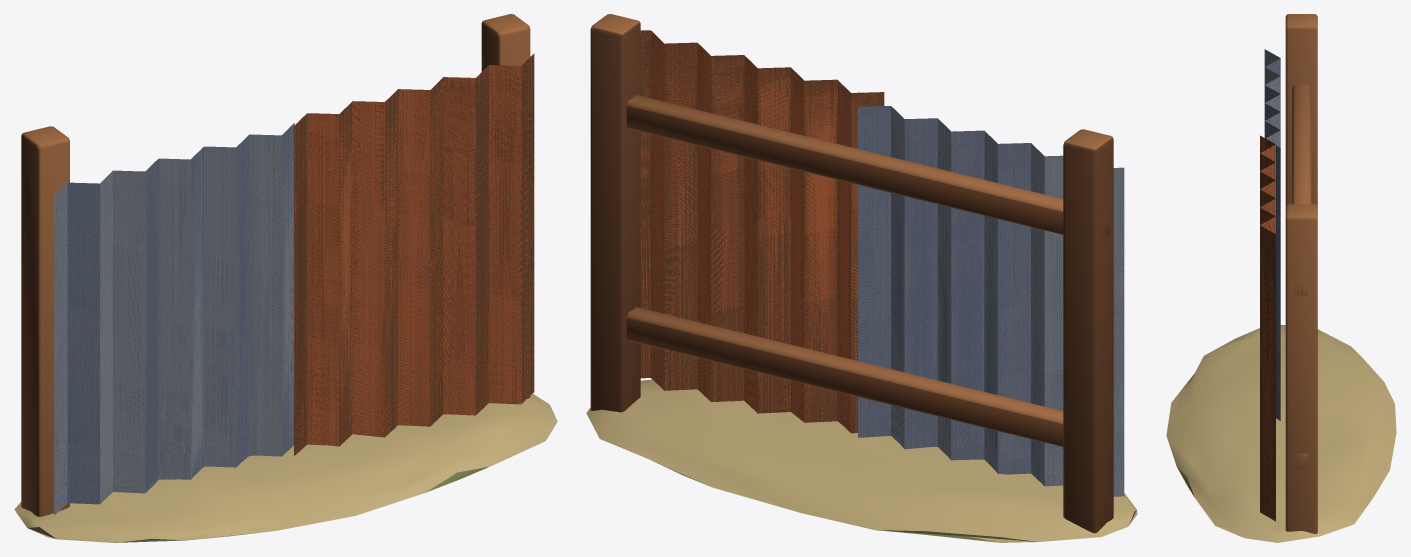
Rendered from IronFence.fbx.
3 views of the same model, side by side, from view 1: azimuth 30°, elevation 25°; view 2: azimuth 150°, elevation 25°; view 3: azimuth 270°, elevation 25° (orthographic). The views are drawn at different scales.
Visible parts, largest first — view 1: IronFence; view 2: IronFence; view 3: IronFence.
Boxes of the visible parts, x1=… form: IronFence: x1=14, y1=14, x2=557, y2=542; IronFence: x1=586, y1=14, x2=1137, y2=542; IronFence: x1=1166, y1=14, x2=1396, y2=542.
Size of the model in its own units: 1.58 by 1.1 by 0.7152.
1 material, 1 textured.
